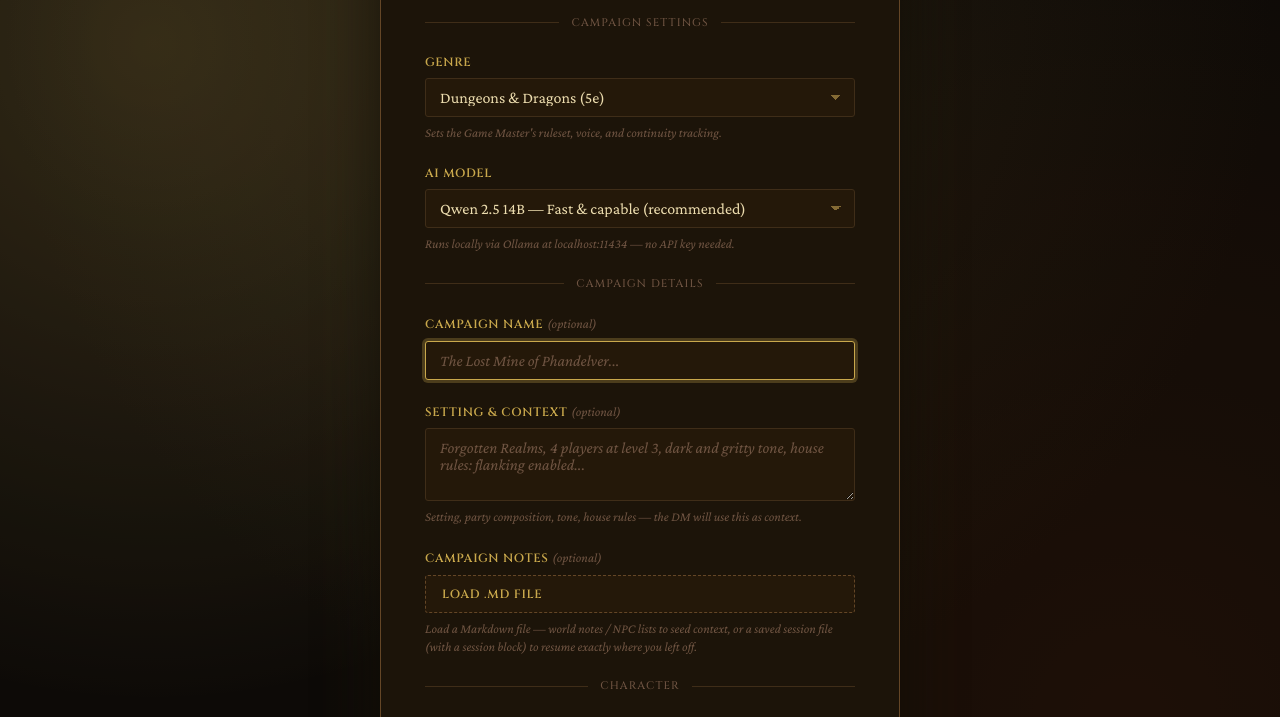
Test case: App — always opens on the setup screen (no auto-boot) › transitions from setup to chat after submitting the form (with a name)
The image size is (1280, 717).
(page scrolled)
Type "Ironhold" into the field with placeholder "The Lost Mine of Phandelver..." at (640, 360), box [425, 341, 855, 380]
(page scrolled)
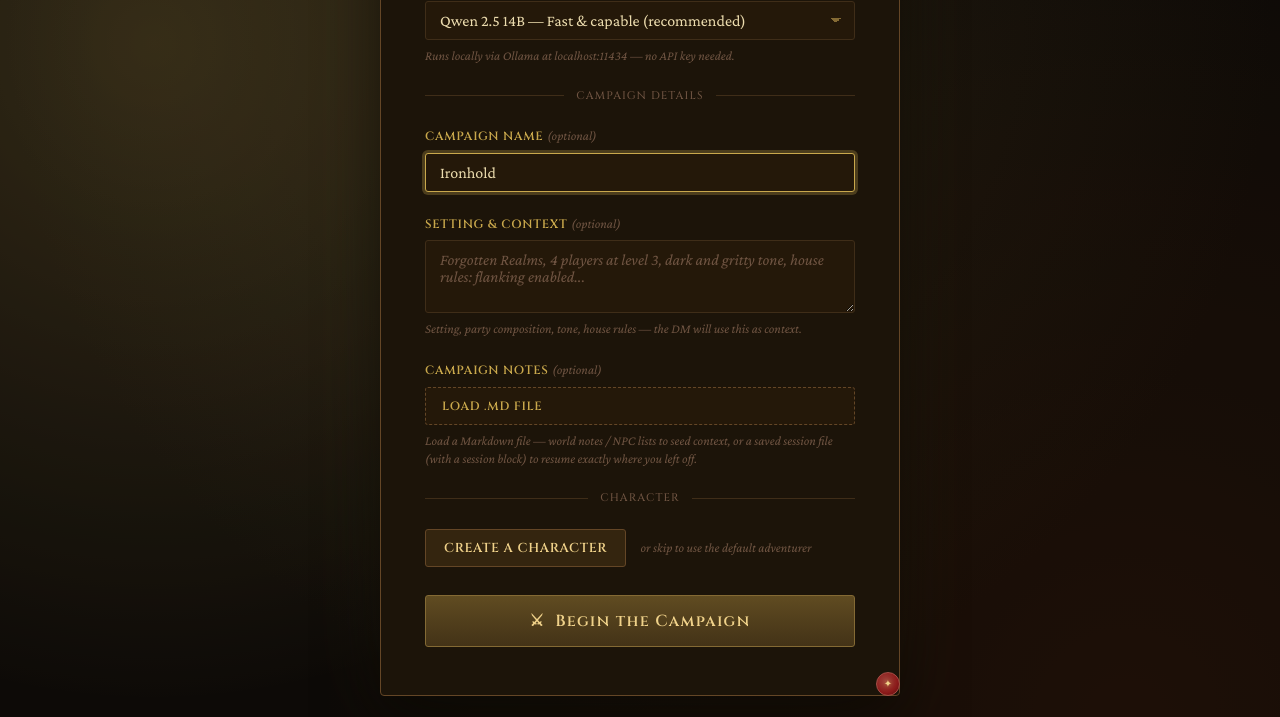
Click the button "⚔ Begin the Campaign" at (640, 621), box [425, 595, 855, 647]
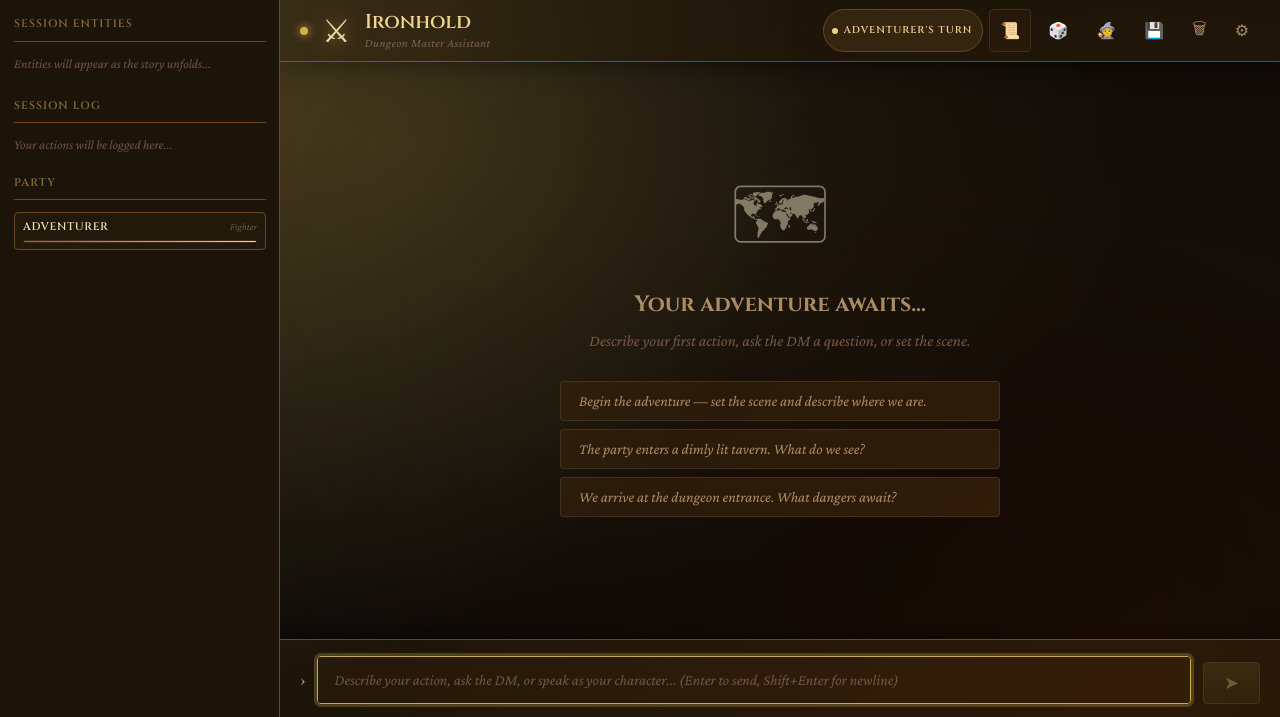
Expected: the text "Ironhold" is shown, [365, 8, 471, 34]
